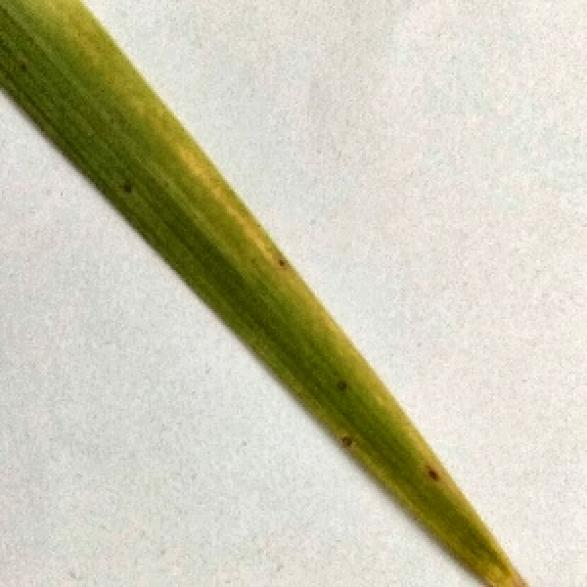Leaf_smut: (278, 376, 522, 585)
